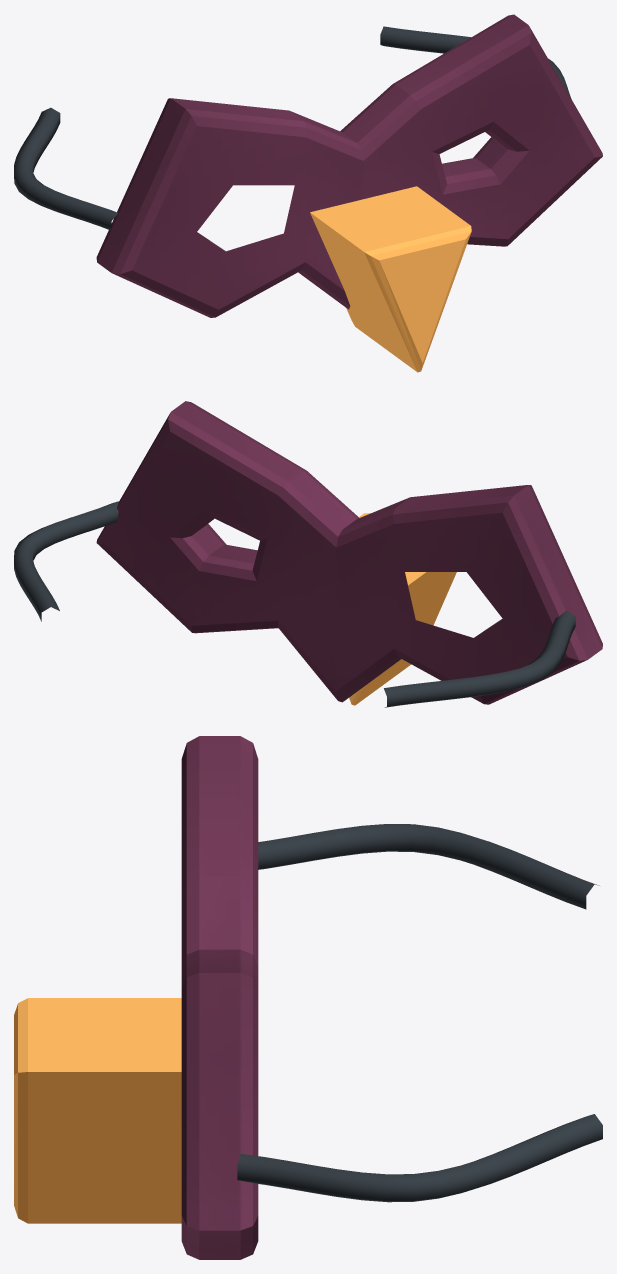
The model's file is hollowwick-halloween-raven-masquerade-mask-a190a6ae__21650.glb.
3 renders of one model, top to bottom at view 1: azimuth 30°, elevation 25°; view 2: azimuth 150°, elevation 25°; view 3: azimuth 270°, elevation 25°, orthographic. The views are drawn at different scales.
Parts seen in each view (by area): view 1: raven-masquerade-mask; view 2: raven-masquerade-mask; view 3: raven-masquerade-mask.
Part boxes in pixels (x1,y1,x2,y2): raven-masquerade-mask: [14, 14, 602, 372]; raven-masquerade-mask: [14, 401, 602, 707]; raven-masquerade-mask: [14, 736, 602, 1259].
Size of the model in its own units: 0.7251 by 0.3452 by 0.499.
Materials: 3 (1 with a texture image).
